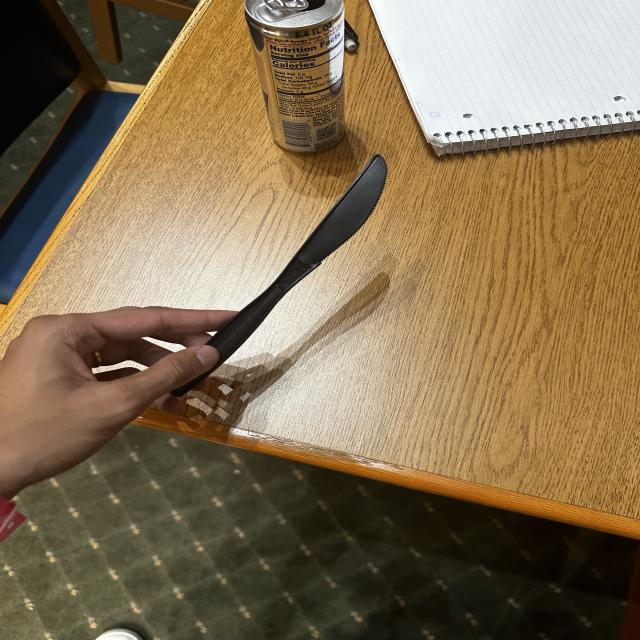knife: (153, 141, 415, 413)
